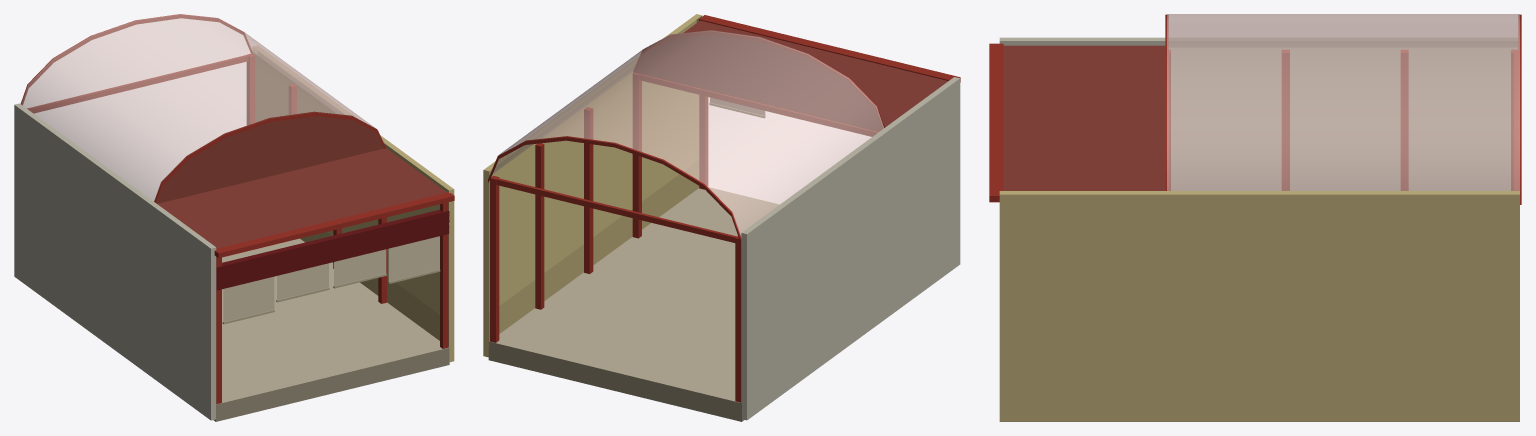
3 views of the same model, side by side, from view 1: azimuth 30°, elevation 25°; view 2: azimuth 150°, elevation 25°; view 3: azimuth 270°, elevation 25° (orthographic). The views are drawn at different scales.
Visible parts, largest first — view 1: lau-ya-keng-food-court-lod1; view 2: lau-ya-keng-food-court-lod1; view 3: lau-ya-keng-food-court-lod1.
Part boxes in pixels (bbox=[...]): lau-ya-keng-food-court-lod1: bbox=[14, 14, 454, 421]; lau-ya-keng-food-court-lod1: bbox=[483, 14, 960, 421]; lau-ya-keng-food-court-lod1: bbox=[989, 14, 1521, 421].
Size of the model in its own units: 10 by 9 by 14.32.
